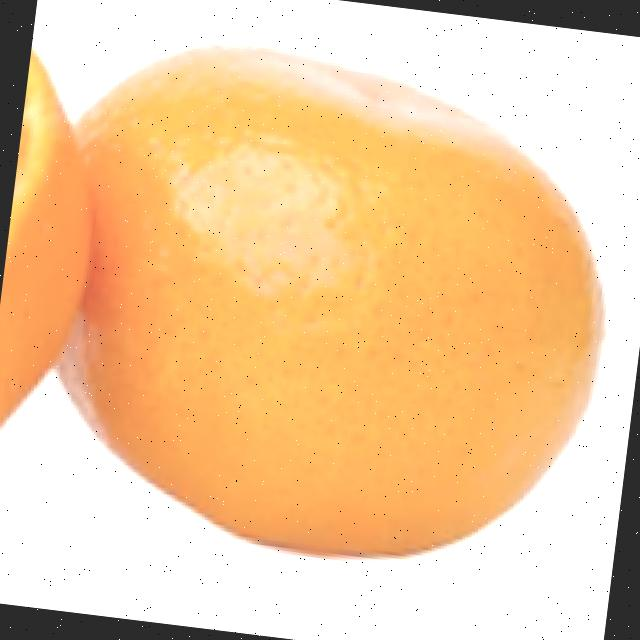orange: (23, 21, 636, 588)
